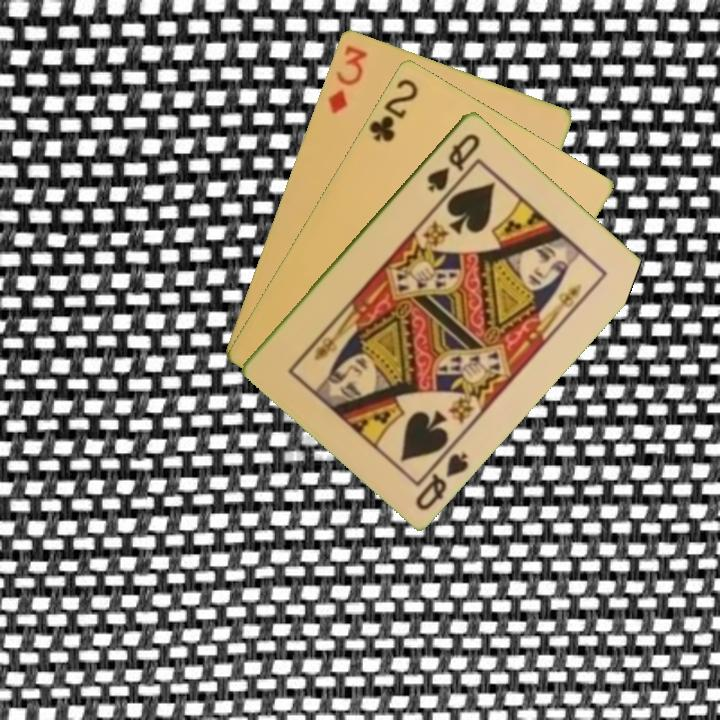2c: (365, 74, 421, 145)
3d: (324, 41, 370, 116)
Qs: (412, 439, 472, 513), (423, 129, 483, 195)
